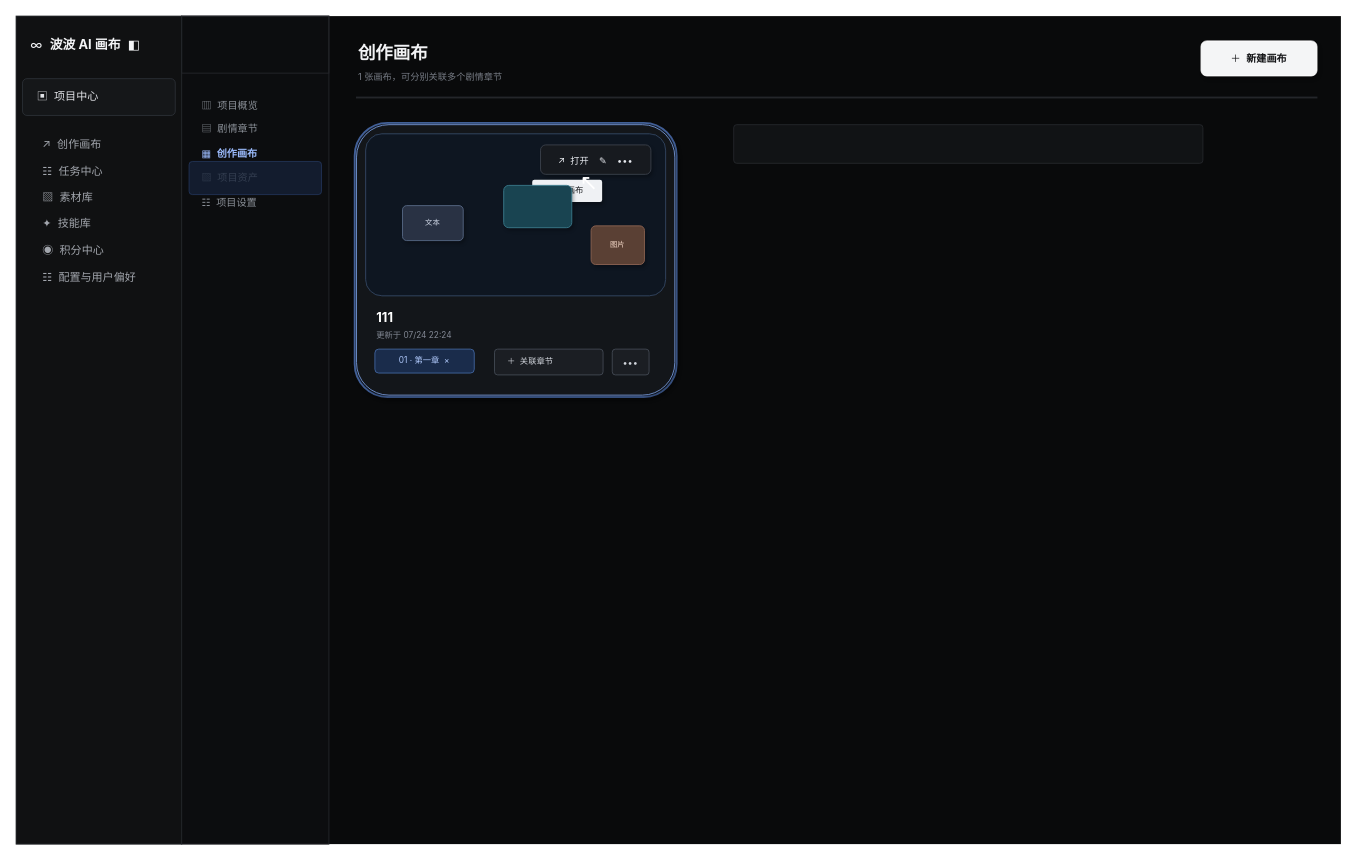
The diagram is 1357 pixels wide and 860 high, and some of its shapes have lost their labels. Each missing label, with the centre of its shape:
"‹ ▱ 测试项目 1 ● 进行中" goes at (x=255, y=44).
"分镜" goes at (x=538, y=207).
"悬停反馈：卡片上移 2px，描边变亮，节点表面增强；快捷工具条 160ms 淡入，离开即消失。" goes at (x=968, y=143).
